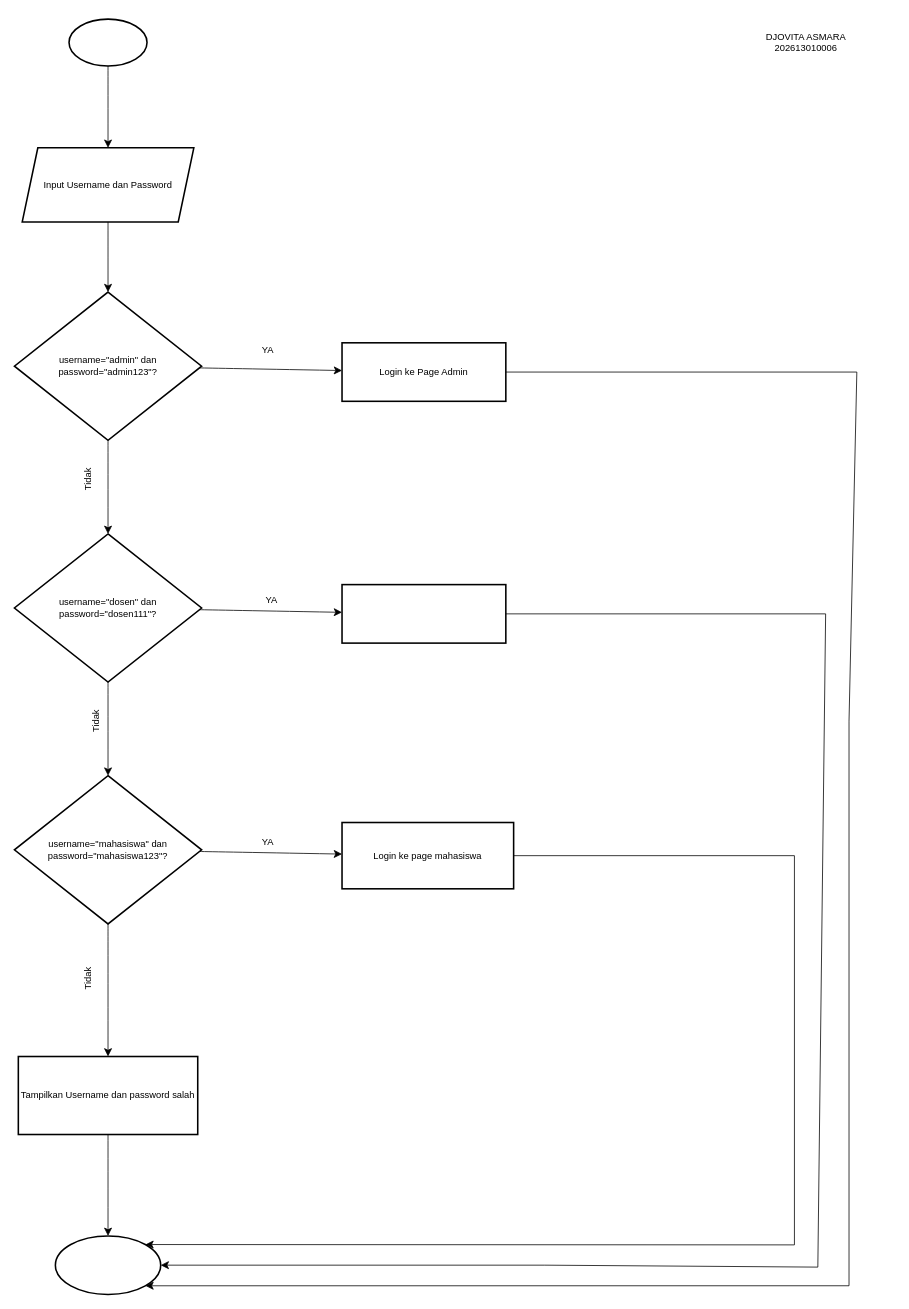
Image size: 909x1309. Some labels were removed from this diagram. The shapes that lost their labels are listed below. From the top down, each one's centre as x and y in pixels, then its label:
point (107, 42): Mulai
point (423, 613): Login ke page dosen
point (107, 1265): Selesai
